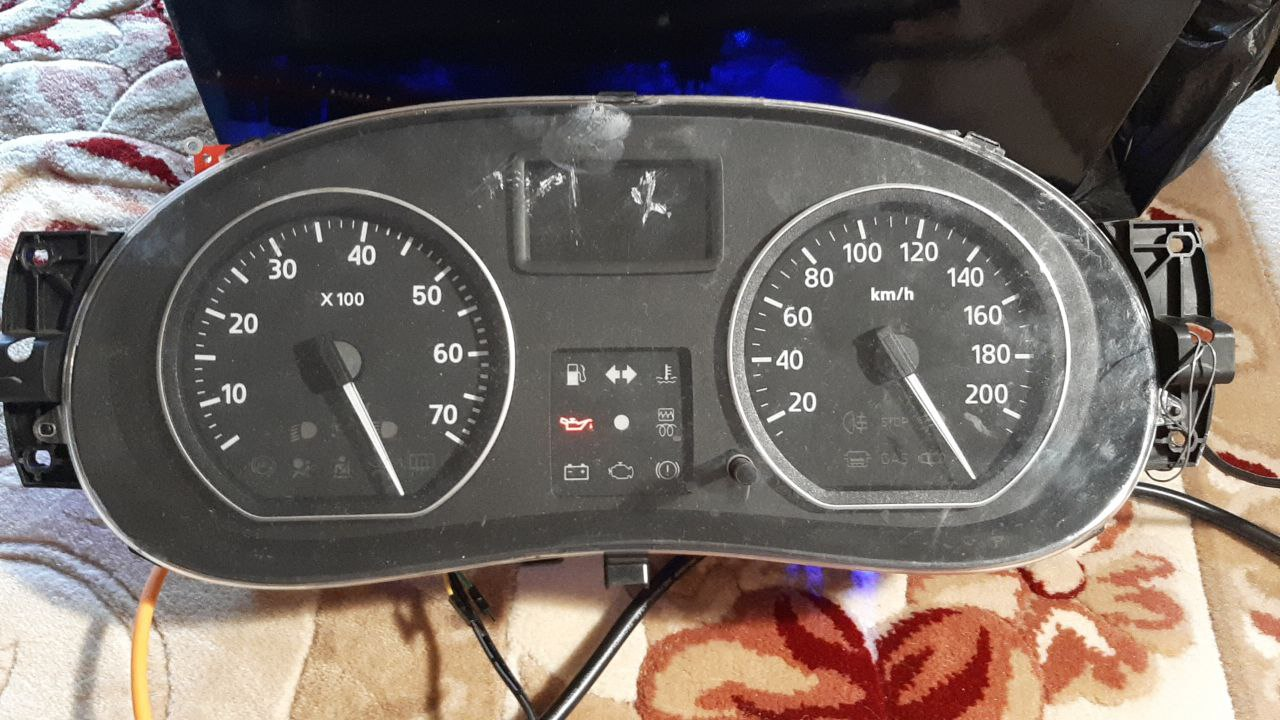oil: (553, 411, 601, 436)
